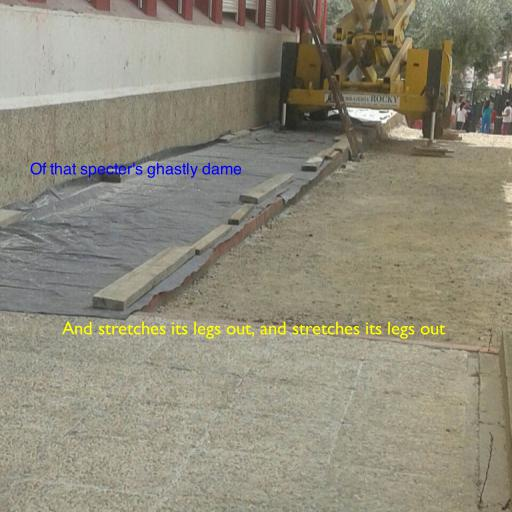Gill Sans: (61, 321, 445, 339)
SF Pro: (30, 162, 242, 178)
